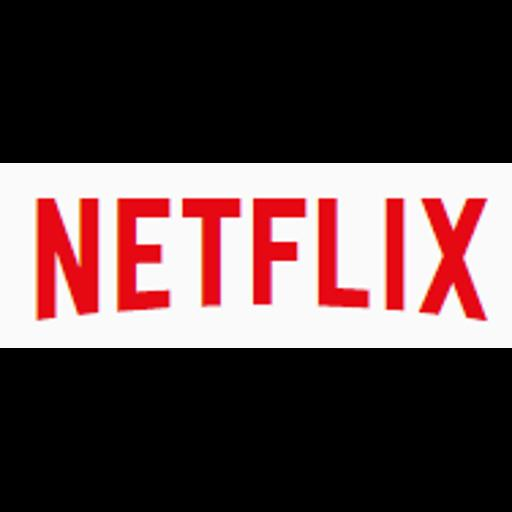Netflix: (0, 163, 512, 348)
